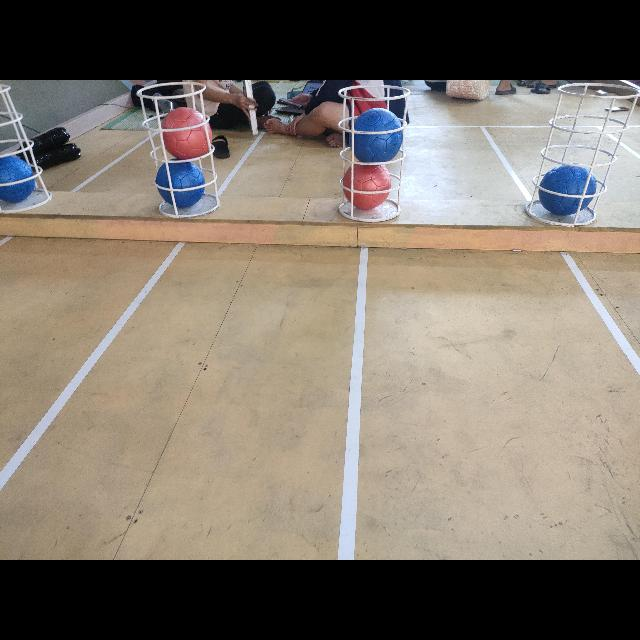B: (538, 160, 596, 216), (351, 106, 403, 164), (157, 160, 207, 208), (0, 154, 38, 203)
R: (160, 108, 213, 160), (342, 162, 392, 210)
